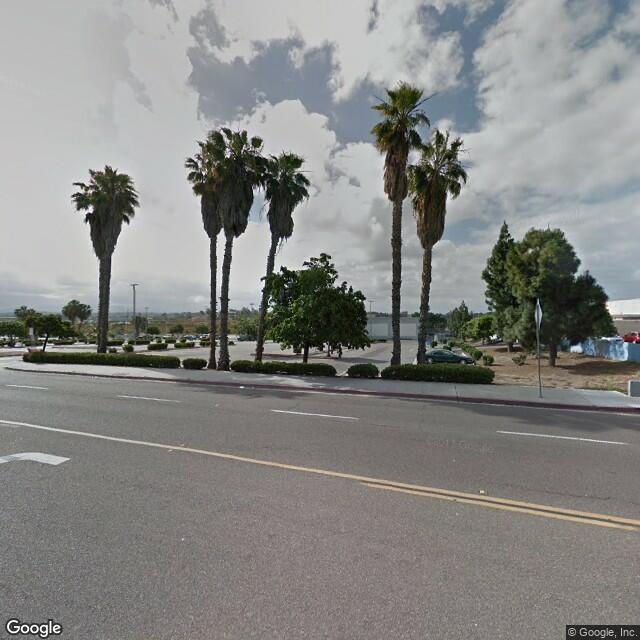litter: (235, 385, 248, 392)
